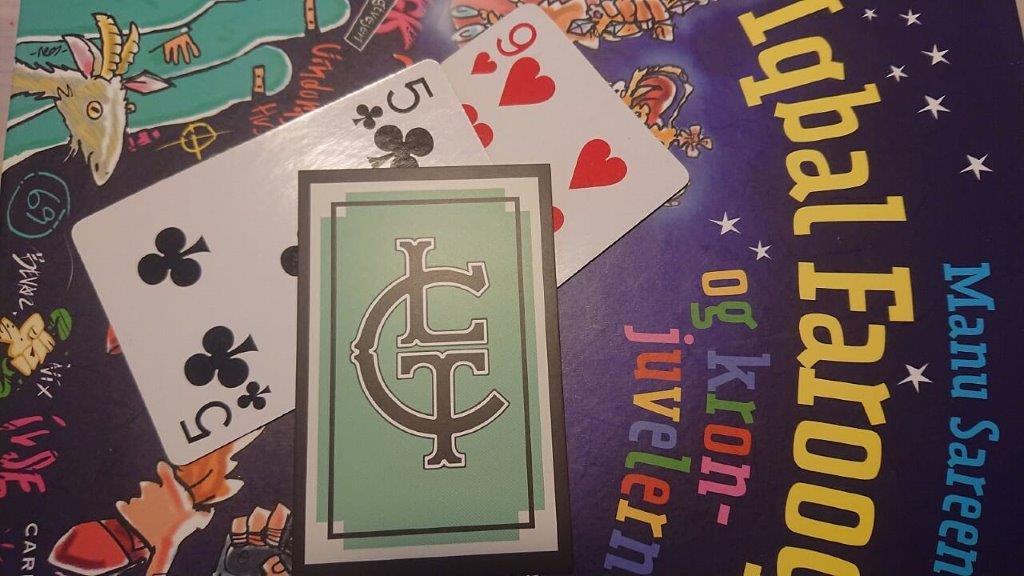5C: (345, 74, 435, 132)
9H: (463, 19, 541, 80)
